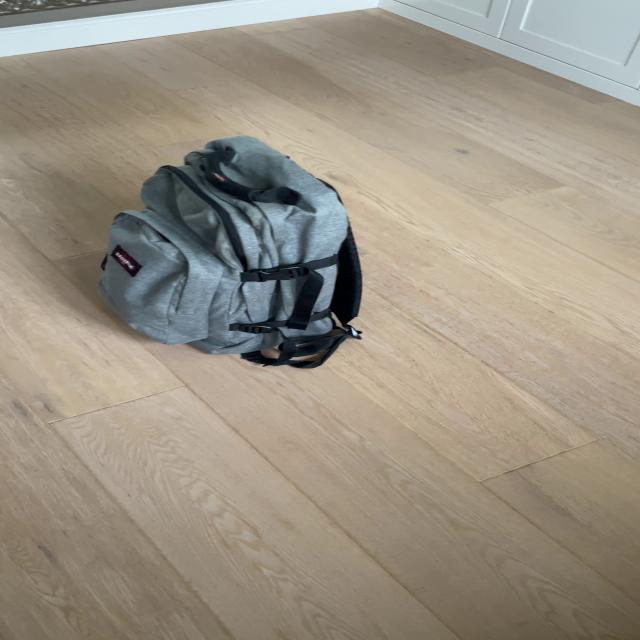backpack: (84, 126, 376, 372)
